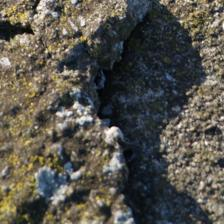Crack: (65, 6, 151, 220)
